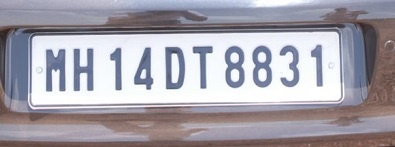plate: (16, 19, 367, 126)
